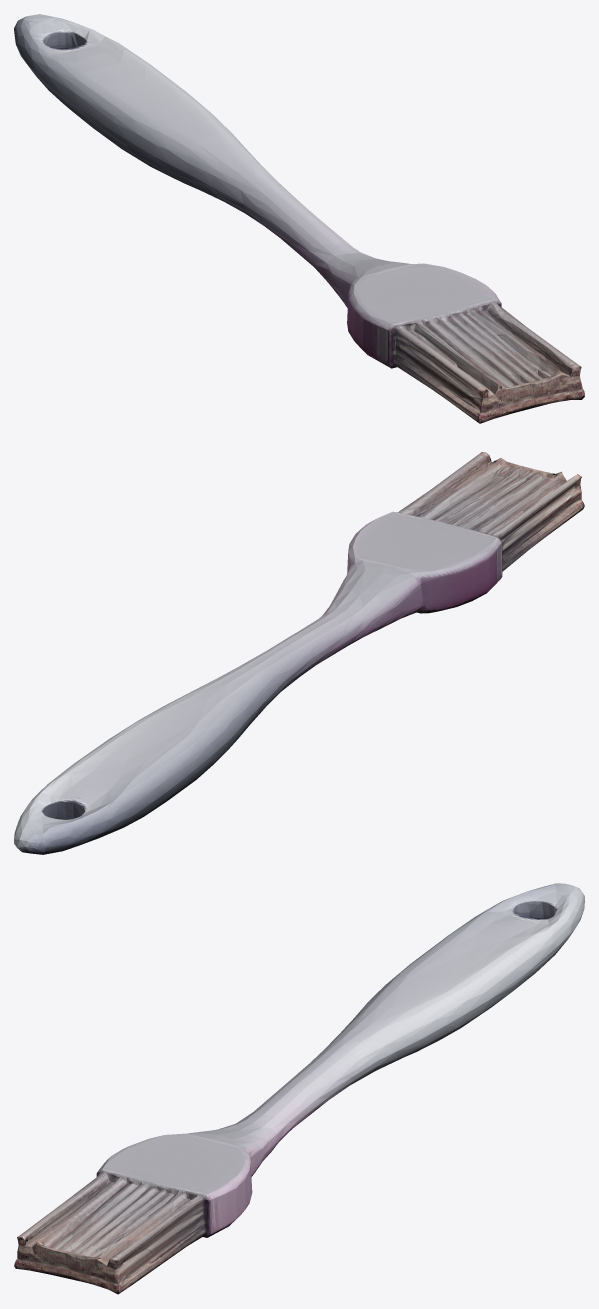
File: Silicone Brushes.glb
3 views of the same model, one above another, from view 1: azimuth 30°, elevation 25°; view 2: azimuth 150°, elevation 25°; view 3: azimuth 330°, elevation 25° (orthographic).
Visible parts, largest first — view 1: world; view 2: world; view 3: world.
Part boxes in pixels (x1,y1,x2,y2): world: (14,14,584,423); world: (14,452,584,854); world: (14,883,584,1294).
Size of the model in its own units: 0.1438 by 0.0541 by 1.
Materials: 1 (1 with a texture image).
